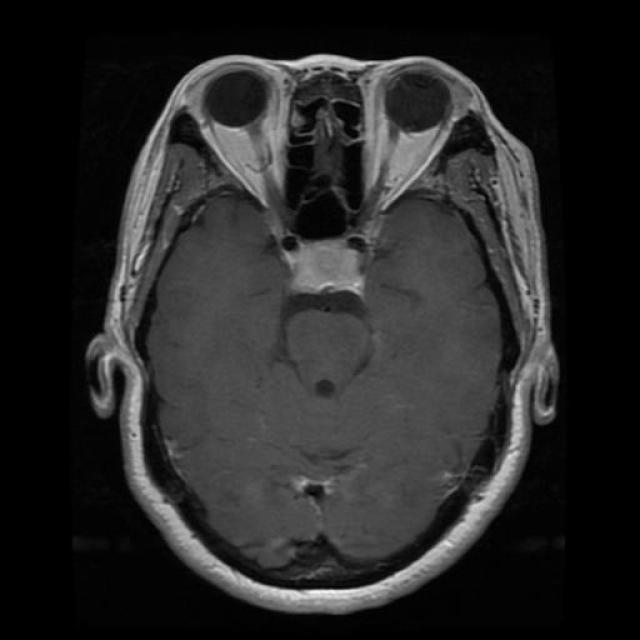pituitary: (284, 236, 380, 320)
